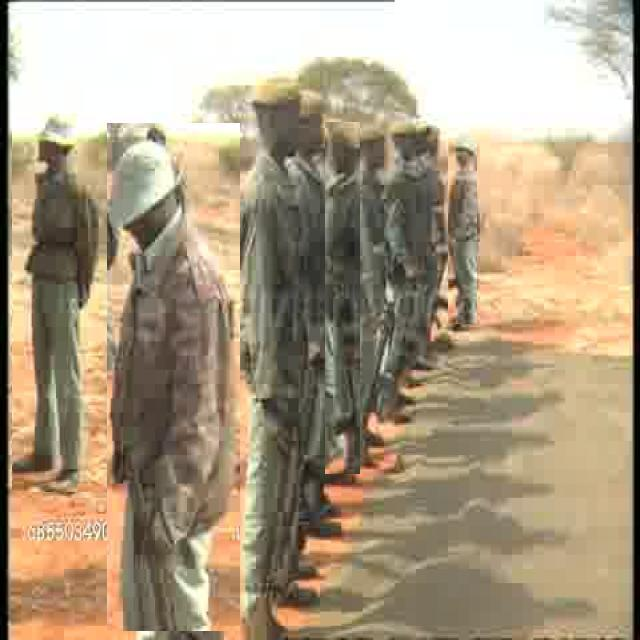poacher: (107, 123, 240, 631), (228, 64, 311, 571), (12, 112, 108, 492), (325, 122, 360, 474), (298, 58, 328, 414), (390, 122, 418, 350), (448, 138, 477, 324)
